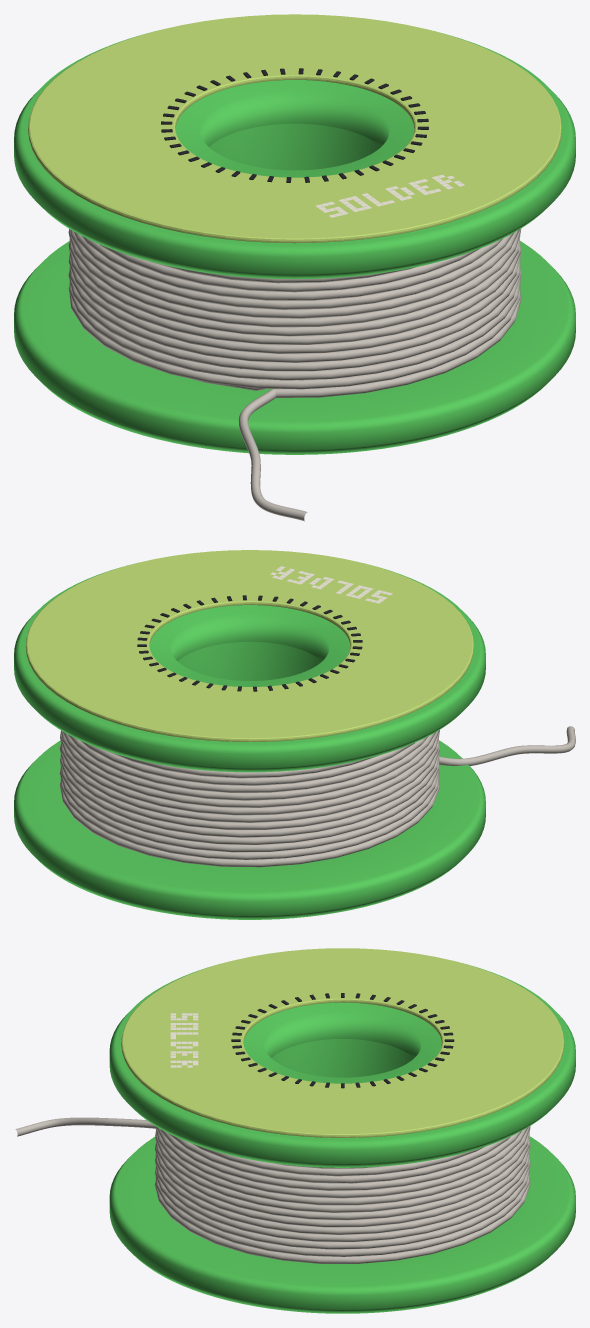
Rendered from components-27.glb.
3 views of the same model, one above another, from view 1: azimuth 30°, elevation 25°; view 2: azimuth 150°, elevation 25°; view 3: azimuth 270°, elevation 25° (orthographic). The views are drawn at different scales.
Parts seen in each view (by area): view 1: upper, solder, lower, hub, tip; view 2: upper, solder, lower, hub, tip; view 3: upper, solder, lower, hub, tip.
Part boxes in pixels (x1=…): upper: x1=14, y1=14, x2=575, y2=279; solder: x1=68, y1=229, x2=521, y2=397; lower: x1=14, y1=241, x2=575, y2=454; hub: x1=209, y1=123, x2=380, y2=170; tip: x1=238, y1=389, x2=307, y2=521; upper: x1=14, y1=550, x2=485, y2=772; solder: x1=59, y1=730, x2=439, y2=867; lower: x1=14, y1=740, x2=485, y2=919; hub: x1=178, y1=641, x2=321, y2=680; tip: x1=439, y1=726, x2=575, y2=765; upper: x1=109, y1=948, x2=575, y2=1167; solder: x1=154, y1=1126, x2=530, y2=1263; lower: x1=109, y1=1136, x2=575, y2=1313; hub: x1=271, y1=1039, x2=413, y2=1077; tip: x1=15, y1=1117, x2=155, y2=1136.
Bounding box in the file's own units: 1.84 × 0.775 × 2.22.
